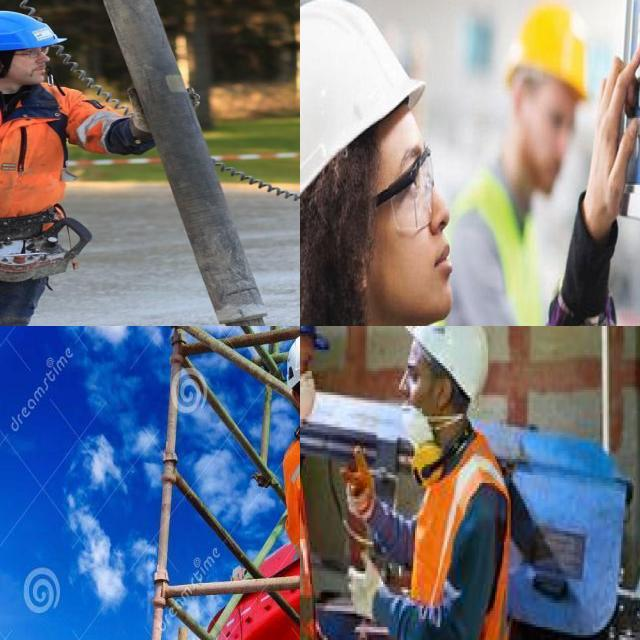face_mask: (396, 344, 450, 454), (300, 331, 320, 427)
face_nomask: (365, 125, 462, 326), (0, 42, 55, 84)
glasses: (384, 137, 438, 244)
hand_glove: (340, 440, 378, 523), (346, 555, 384, 622), (0, 216, 19, 272)
hand_noglove: (592, 40, 640, 249)
head_helmet: (300, 0, 420, 187), (509, 0, 589, 91), (406, 326, 486, 397), (0, 11, 59, 48)
person: (300, 0, 463, 326), (454, 0, 600, 326), (393, 326, 512, 640), (0, 12, 71, 326)
vest: (404, 458, 509, 640), (457, 160, 547, 326), (0, 95, 110, 217)
